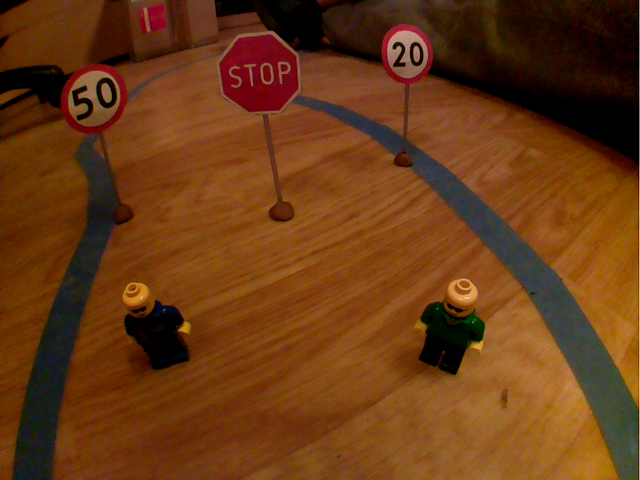Ograniczenie 20: (377, 21, 437, 89)
Ograniczenie 50: (56, 62, 130, 137)
Postac LEGO: (406, 273, 493, 381), (116, 279, 204, 375)
Stop: (215, 26, 306, 119)
